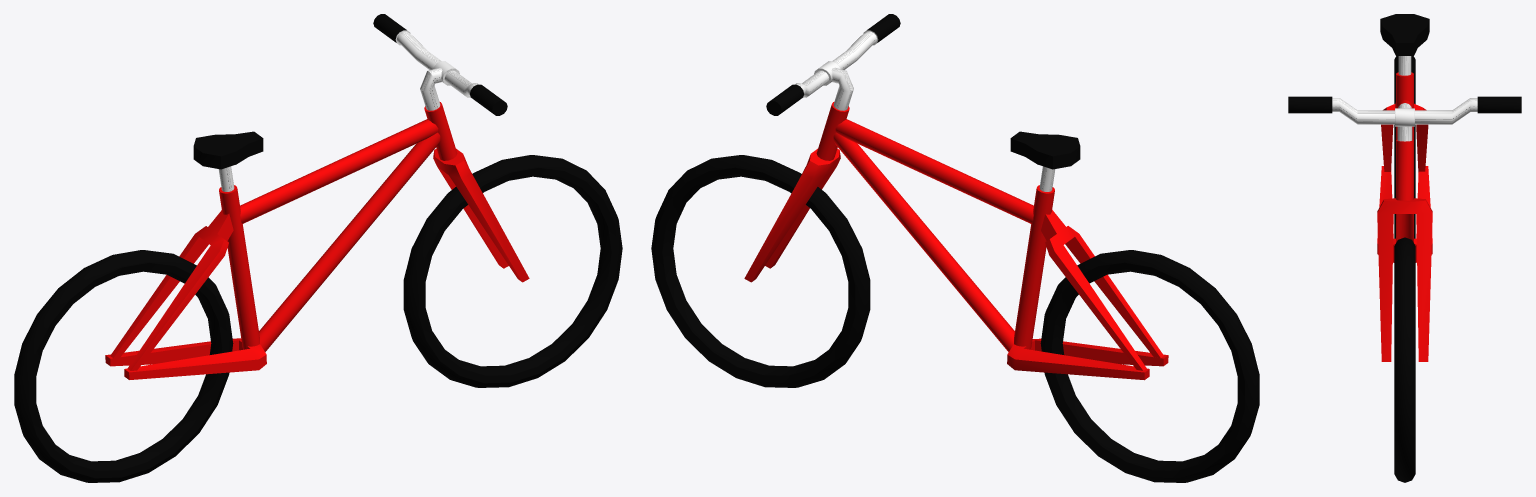
File: bicicletaroja.obj
3 views of the same model, side by side, from view 1: azimuth 30°, elevation 25°; view 2: azimuth 150°, elevation 25°; view 3: azimuth 270°, elevation 25° (orthographic).
Visible parts, largest first — view 1: Torus_Malla.010, Torus_1_Malla.009, Cylinder_1_Malla.007, Cube_2_Malla.002, Cylinder_2_Malla.006, Cube_1_Malla.003, Cube_Malla.004, Cylinder_Malla.008, Cylinder_4_Malla, Cube_3_Malla.001, Cylinder_3_Malla.005; view 2: Torus_Malla.010, Torus_1_Malla.009, Cylinder_1_Malla.007, Cube_2_Malla.002, Cube_1_Malla.003, Cylinder_2_Malla.006, Cylinder_Malla.008, Cube_Malla.004, Cylinder_4_Malla, Cube_3_Malla.001, Cylinder_3_Malla.005; view 3: Torus_Malla.010, Cube_Malla.004, Cylinder_4_Malla, Cube_3_Malla.001, Cylinder_3_Malla.005, Cube_2_Malla.002, Cube_1_Malla.003, Cylinder_Malla.008, Torus_1_Malla.009, Cylinder_1_Malla.007.
Boxes of the visible parts, <box> form: Torus_Malla.010: <box>403,155,622,387</box>; Torus_1_Malla.009: <box>14,250,233,482</box>; Cylinder_1_Malla.007: <box>259,132,440,352</box>; Cube_2_Malla.002: <box>110,210,233,370</box>; Cylinder_2_Malla.006: <box>240,119,438,223</box>; Cube_1_Malla.003: <box>105,338,266,379</box>; Cube_Malla.004: <box>433,148,529,282</box>; Cylinder_Malla.008: <box>218,166,259,349</box>; Cylinder_4_Malla: <box>373,14,507,115</box>; Cube_3_Malla.001: <box>193,131,263,169</box>; Cylinder_3_Malla.005: <box>420,67,457,160</box>; Torus_Malla.010: <box>651,155,870,387</box>; Torus_1_Malla.009: <box>1040,250,1259,482</box>; Cylinder_1_Malla.007: <box>833,132,1014,352</box>; Cube_2_Malla.002: <box>1041,210,1163,370</box>; Cube_1_Malla.003: <box>1007,338,1168,380</box>; Cylinder_2_Malla.006: <box>835,119,1033,223</box>; Cylinder_Malla.008: <box>1014,166,1055,349</box>; Cube_Malla.004: <box>744,148,840,282</box>; Cylinder_4_Malla: <box>766,14,900,115</box>; Cube_3_Malla.001: <box>1010,131,1080,169</box>; Cylinder_3_Malla.005: <box>816,67,853,160</box>; Torus_Malla.010: <box>1394,237,1415,482</box>; Cube_Malla.004: <box>1377,198,1432,361</box>; Cylinder_4_Malla: <box>1288,96,1521,126</box>; Cube_3_Malla.001: <box>1380,14,1429,55</box>; Cylinder_3_Malla.005: <box>1396,103,1413,200</box>; Cube_2_Malla.002: <box>1381,102,1428,172</box>; Cube_1_Malla.003: <box>1377,166,1432,262</box>; Cylinder_Malla.008: <box>1396,56,1413,236</box>; Torus_1_Malla.009: <box>1394,56,1415,238</box>; Cylinder_1_Malla.007: <box>1396,214,1413,242</box>.
Bounding box in the file's own units: 3.78 × 2.06 × 1.28.
